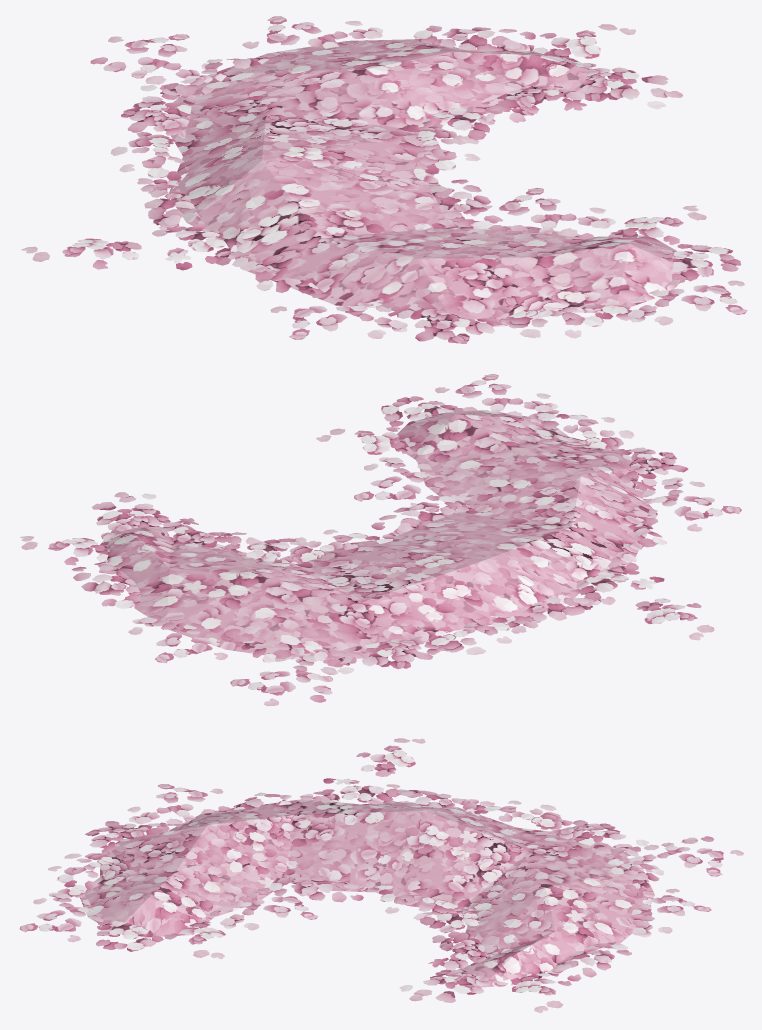
Rendered from SM_Env_CherryBlossom_Pile_05.fbx.
3 views of the same model, one above another, from view 1: azimuth 30°, elevation 25°; view 2: azimuth 150°, elevation 25°; view 3: azimuth 270°, elevation 25° (orthographic). The views are drawn at different scales.
Visible parts, largest first — view 1: SM_Env_CherryBlossom_Pile_05; view 2: SM_Env_CherryBlossom_Pile_05; view 3: SM_Env_CherryBlossom_Pile_05.
Boxes of the visible parts, bbox=[...] form: SM_Env_CherryBlossom_Pile_05: bbox=[21, 16, 747, 343]; SM_Env_CherryBlossom_Pile_05: bbox=[20, 374, 741, 706]; SM_Env_CherryBlossom_Pile_05: bbox=[19, 738, 743, 1013].
Bounding box in the file's own units: 482 × 20.85 × 536.
